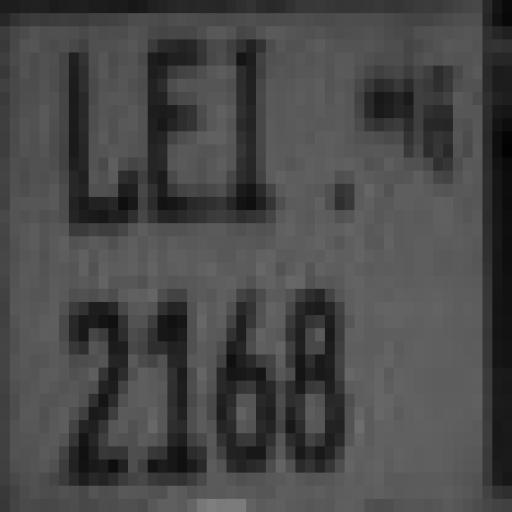1: (136, 290, 210, 479)
2: (58, 283, 126, 488)
6: (215, 276, 275, 493)
8: (284, 276, 361, 478)
E: (138, 32, 218, 236)
I: (222, 27, 288, 250)
L: (60, 47, 136, 222)
